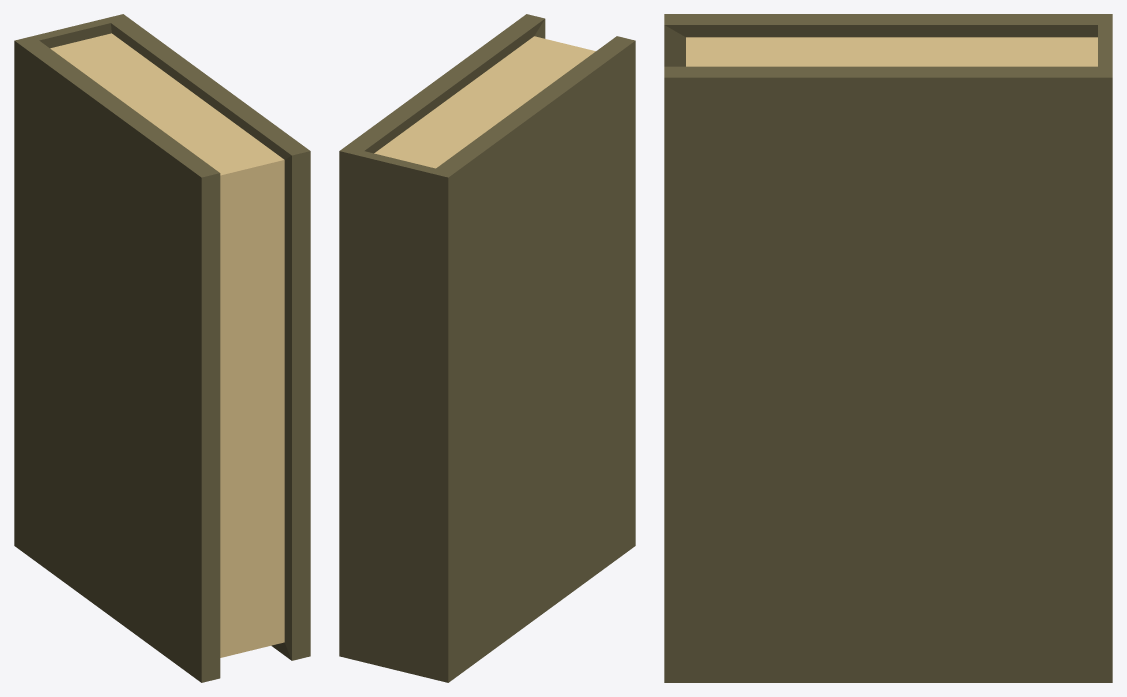
Rendered from Book1_019.fbx.
The picture shows the model from 3 angles, left to right: view 1: azimuth 30°, elevation 25°; view 2: azimuth 150°, elevation 25°; view 3: azimuth 270°, elevation 25°; orthographic projection. The views are drawn at different scales.
Visible parts, largest first — view 1: Book1.019; view 2: Book1.019; view 3: Book1.019.
Boxes of the visible parts, box(x1,y1,x2,y2) form: Book1.019: box(14, 14, 310, 682); Book1.019: box(339, 14, 635, 682); Book1.019: box(664, 14, 1112, 682).
Bounding box in the file's own units: 10.24 × 45.39 × 30.47.
